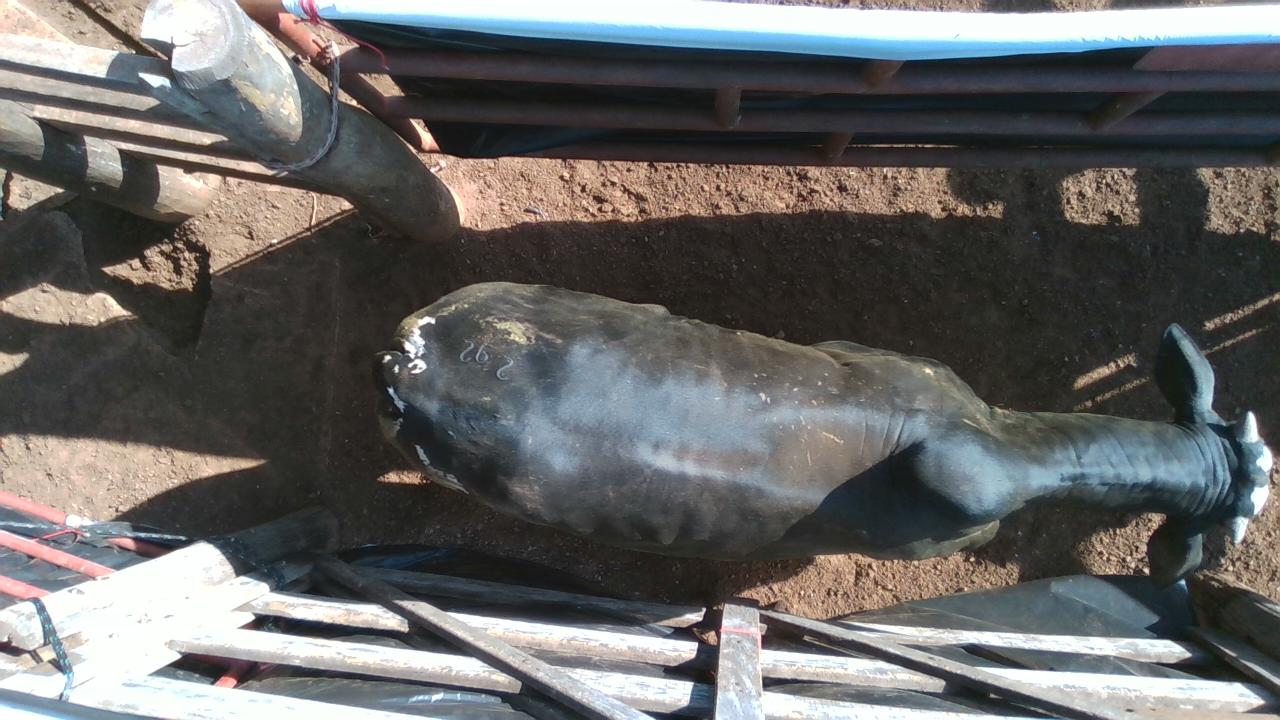cattle: (370, 278, 1273, 581)
